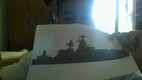tau_muctieu: (31, 38, 130, 64)
